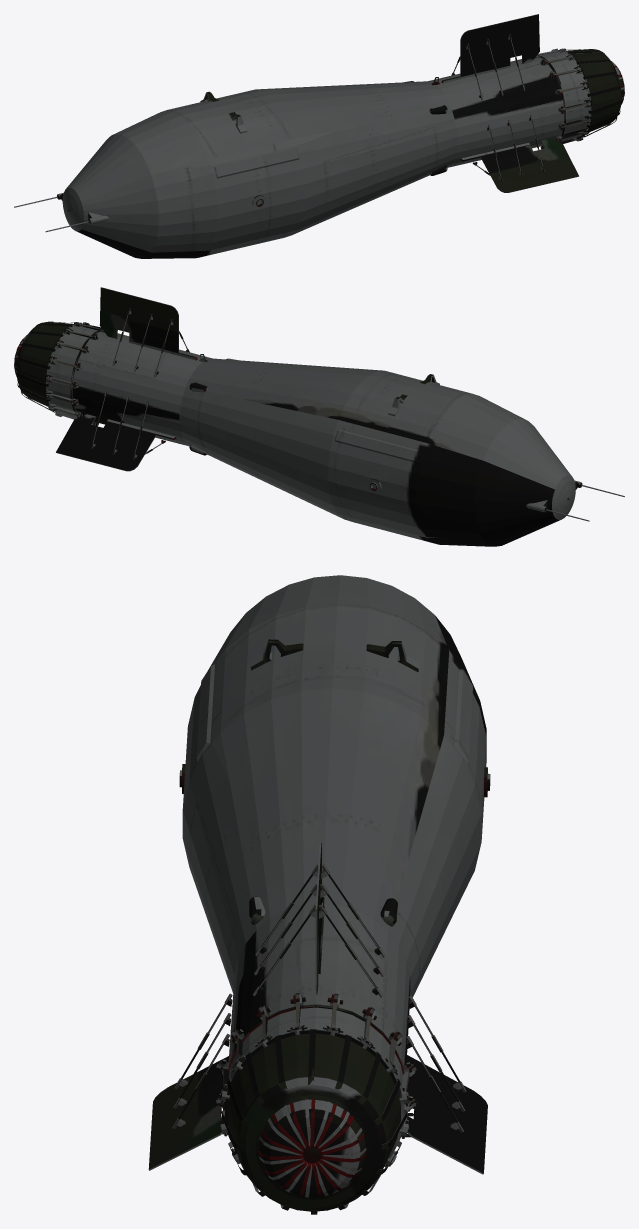
The picture shows the model from 3 angles, top to bottom: view 1: azimuth 30°, elevation 25°; view 2: azimuth 150°, elevation 25°; view 3: azimuth 270°, elevation 25°; orthographic projection. The views are drawn at different scales.
Parts seen in each view (by area): view 1: tsar_an602_0; view 2: tsar_an602_0; view 3: tsar_an602_0.
Boxes of the visible parts, bbox=[...] form: tsar_an602_0: bbox=[14, 14, 624, 258]; tsar_an602_0: bbox=[14, 287, 624, 546]; tsar_an602_0: bbox=[148, 575, 490, 1214].
Size of the model in its own units: 9.64 by 2.5 by 2.47.
Materials: 1 (1 with a texture image).
